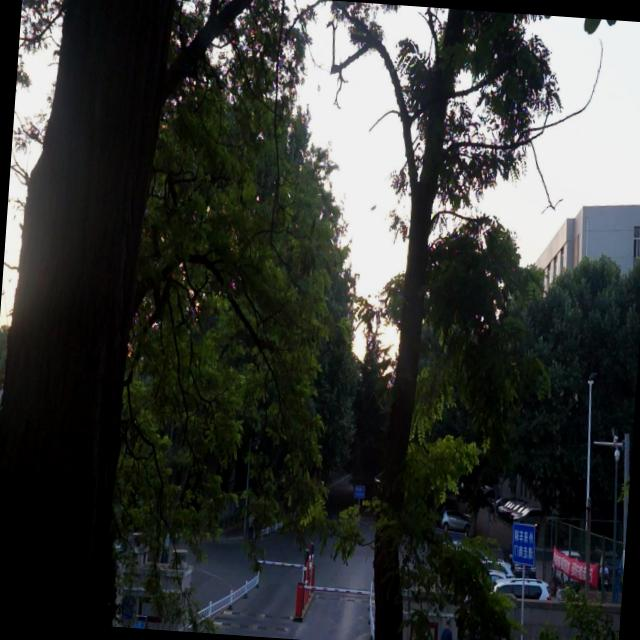drone: (366, 198, 380, 215)
